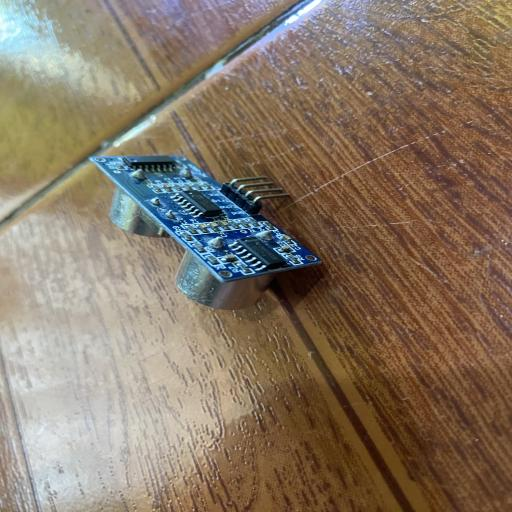Ultrasonic Sensor: (89, 153, 322, 311)
